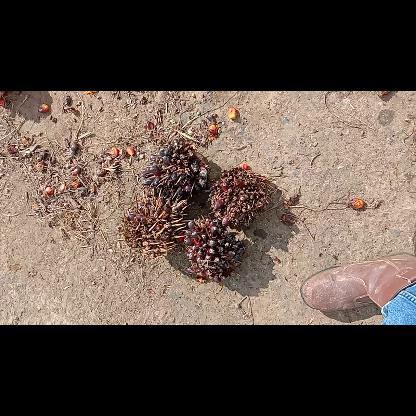TBS abnormal: (124, 188, 186, 260), (140, 139, 206, 203), (185, 214, 243, 282), (207, 166, 272, 226)
